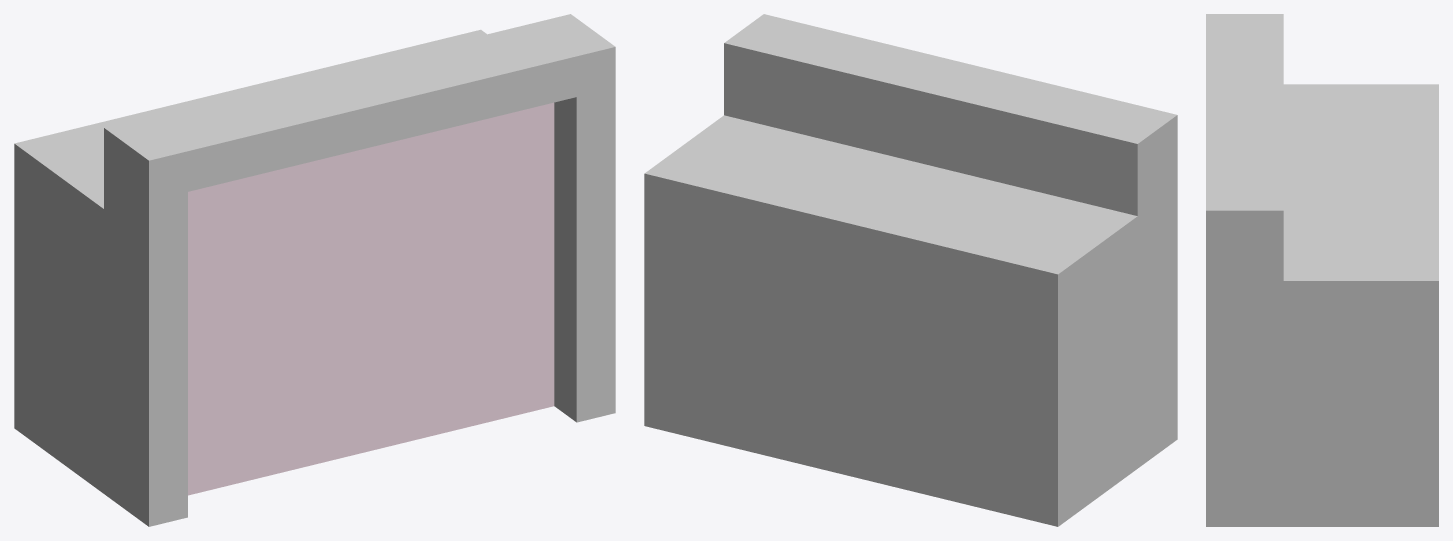
The model's file is counter-set-01-06.glb.
The picture shows the model from 3 angles, left to right: view 1: azimuth 30°, elevation 25°; view 2: azimuth 150°, elevation 25°; view 3: azimuth 270°, elevation 25°; orthographic projection. The views are drawn at different scales.
Visible parts, largest first — view 1: 3DGeom-8, 3DGeom-9; view 2: 3DGeom-8; view 3: 3DGeom-8.
Part boxes in pixels (x1,y1,x2,y2): 3DGeom-8: [14, 14, 615, 526]; 3DGeom-9: [188, 102, 554, 495]; 3DGeom-8: [644, 14, 1177, 526]; 3DGeom-8: [1206, 14, 1438, 526].
Size of the model in its own units: 1.2 by 0.9 by 0.6.
